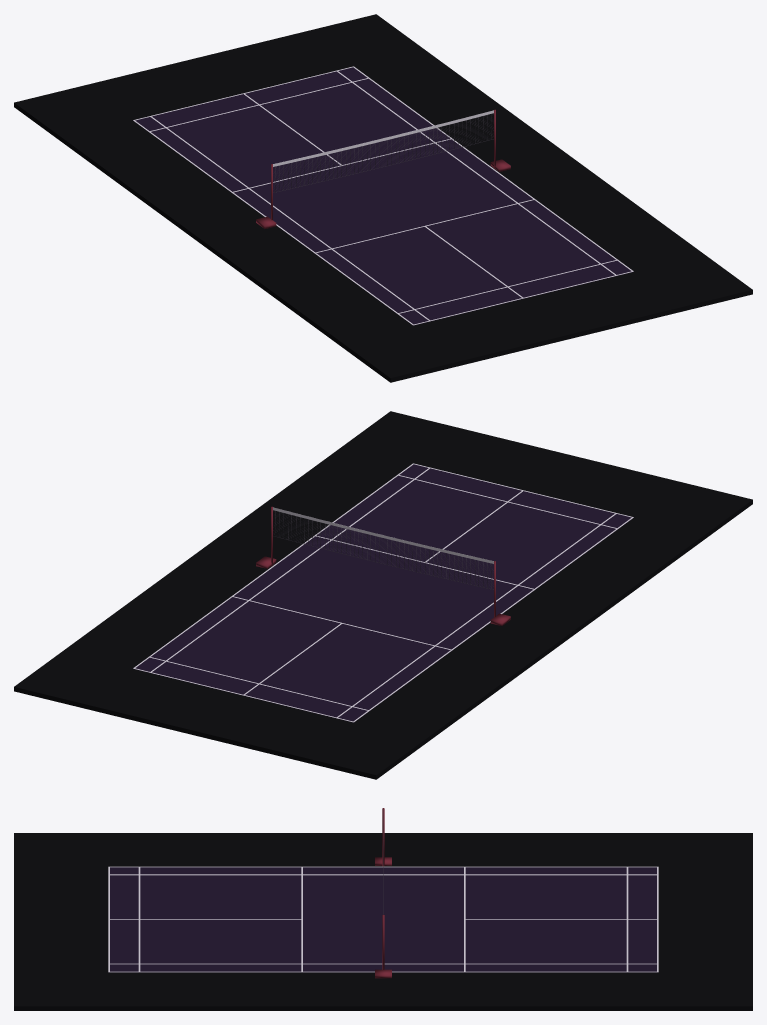
File: court.glb
The picture shows the model from 3 angles, top to bottom: view 1: azimuth 30°, elevation 25°; view 2: azimuth 150°, elevation 25°; view 3: azimuth 270°, elevation 25°; orthographic projection.
Parts seen in each view (by area): view 1: court_surround, playing_surface, court_lines, net_mesh, net_top_tape; view 2: court_surround, playing_surface, court_lines, net_mesh, net_top_tape; view 3: court_surround, playing_surface, court_lines, net_posts.
Boxes of the visible parts, <box> form: court_surround: <box>14,14,752,382</box>; playing_surface: <box>133,67,633,325</box>; court_lines: <box>133,66,633,325</box>; net_mesh: <box>273,114,493,191</box>; net_top_tape: <box>273,110,493,166</box>; court_surround: <box>14,411,752,779</box>; playing_surface: <box>133,464,633,722</box>; court_lines: <box>133,463,633,722</box>; net_mesh: <box>273,511,493,588</box>; net_top_tape: <box>273,507,493,563</box>; court_surround: <box>14,833,752,1010</box>; playing_surface: <box>108,867,658,972</box>; court_lines: <box>108,866,658,972</box>; net_posts: <box>375,808,391,978</box>.
Size of the model in its own units: 10 by 1.68 by 18.
